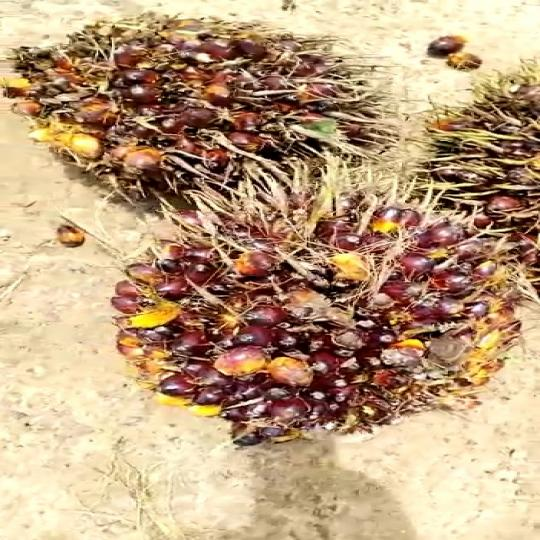masak: (112, 177, 540, 451), (0, 4, 405, 206)
